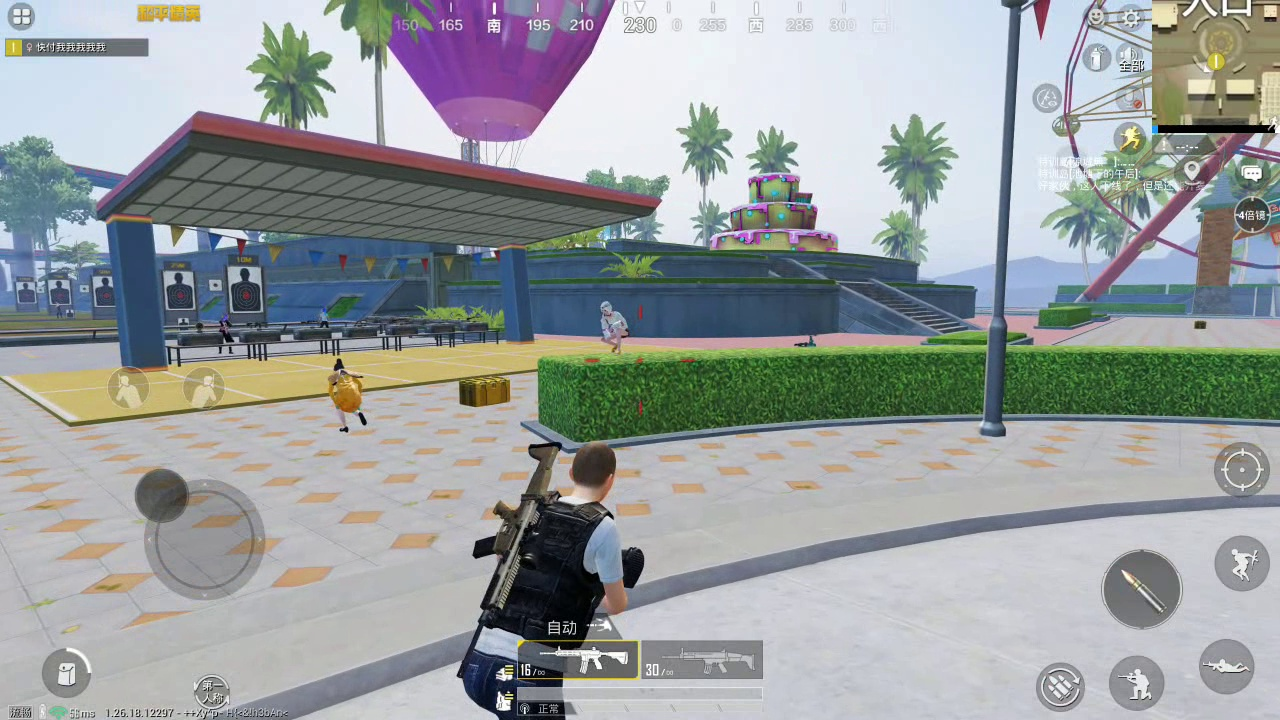enemy: (327, 357, 367, 434), (598, 300, 630, 355), (217, 313, 233, 353), (319, 307, 329, 329)
